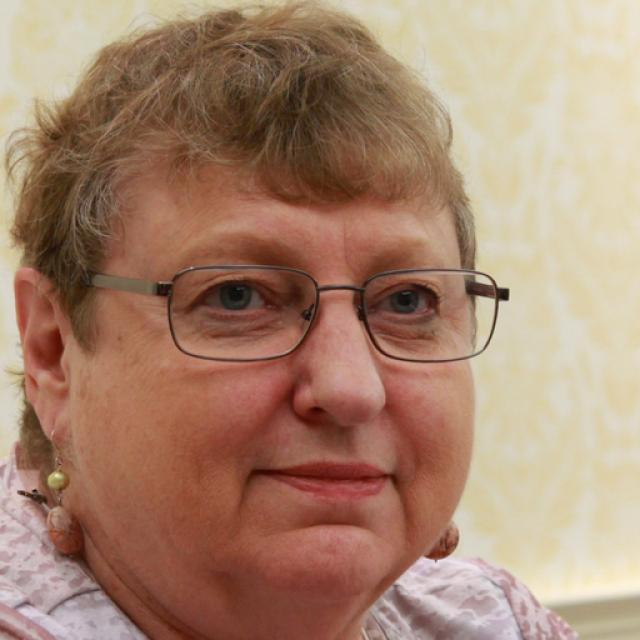content: (87, 170, 475, 602)
